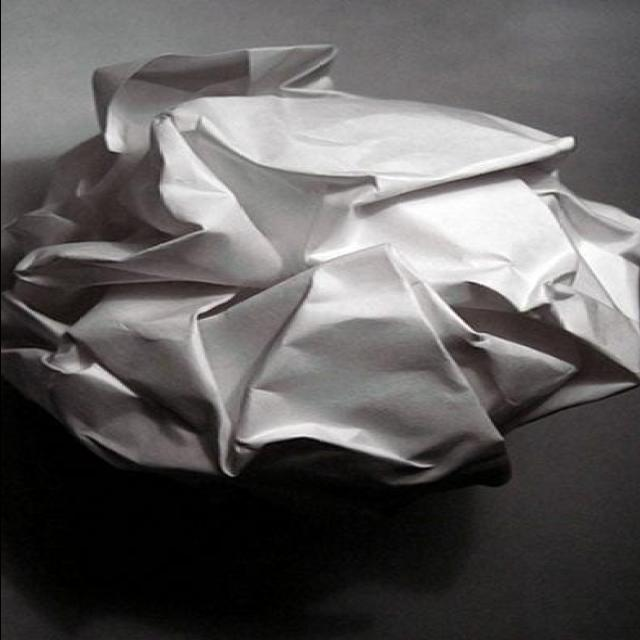kertas: (0, 41, 640, 504)
